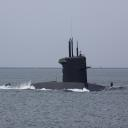submarine: (6, 38, 117, 91)
